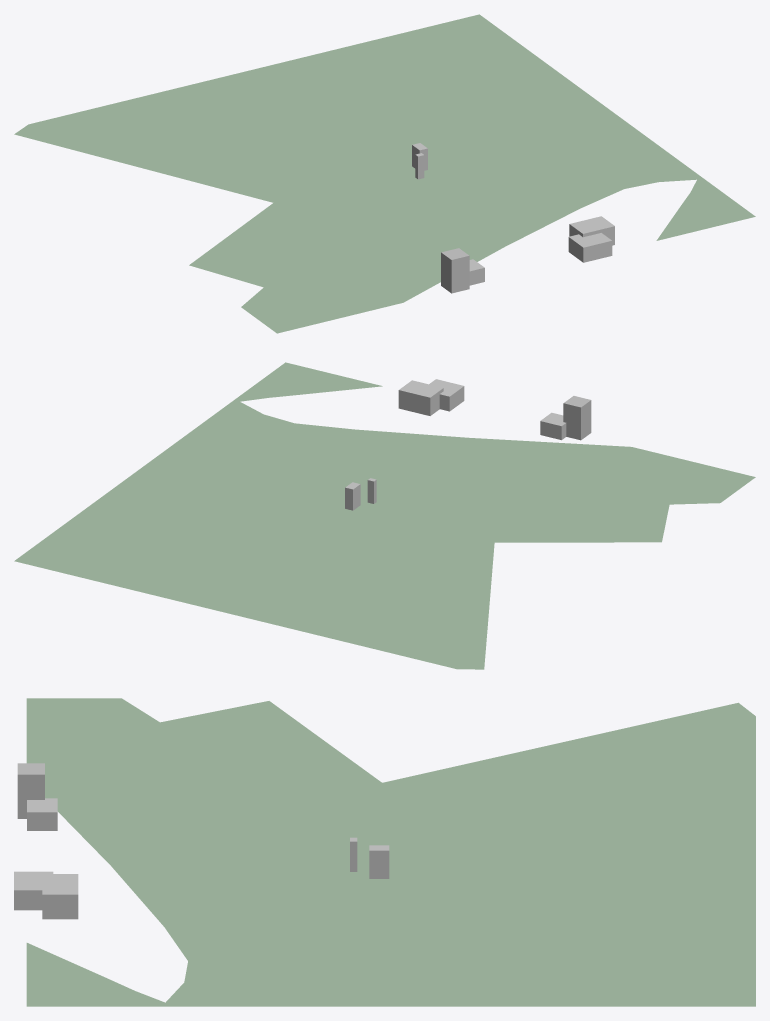
File: 104_109_mid.glb
The picture shows the model from 3 angles, top to bottom: view 1: azimuth 30°, elevation 25°; view 2: azimuth 150°, elevation 25°; view 3: azimuth 270°, elevation 25°; orthographic projection. The views are drawn at different scales.
Bounding box in the file's own units: 500 × 34.41 × 509.
